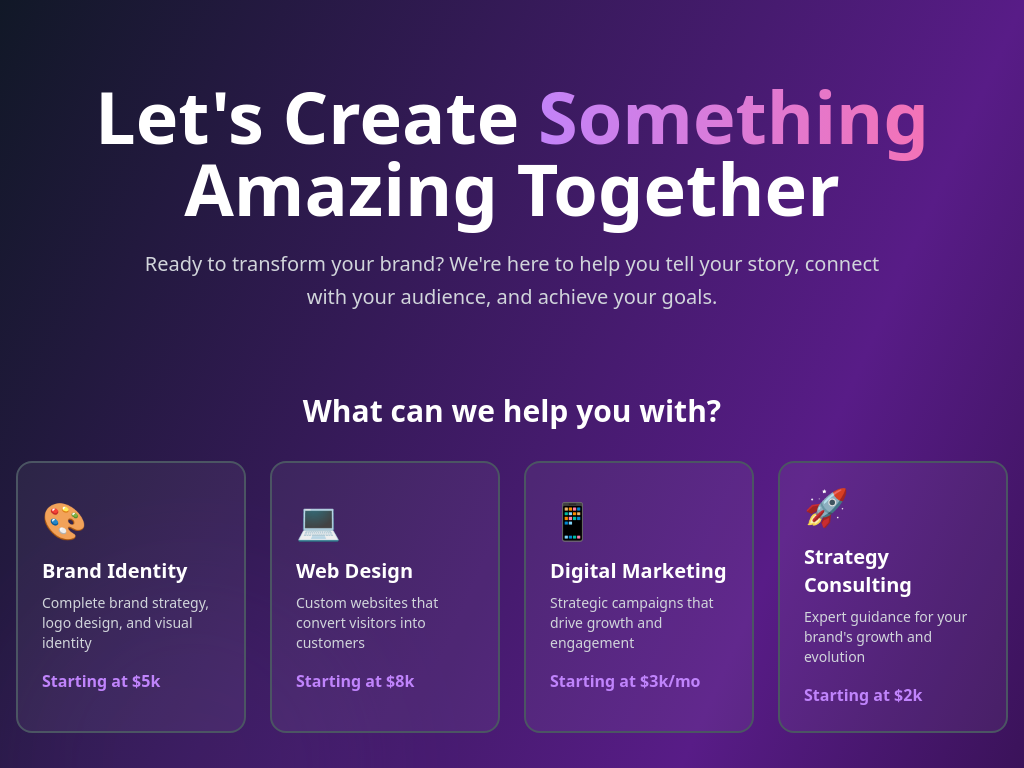
ContactSection › marks service cards as toggle buttons
This screenshot has width=1024, height=768.
Click the button "Brand Identity": coordinates (131, 597) [16,461,246,733]
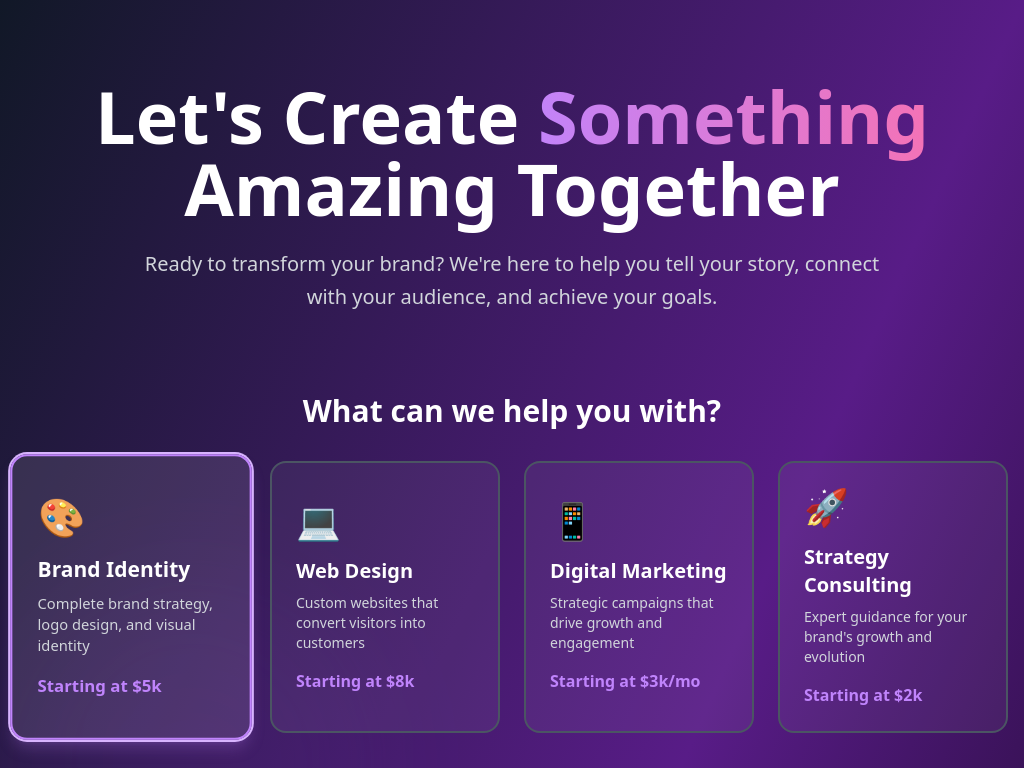
Expected: the button "Brand Identity" is pressed, [10,454,252,740]
